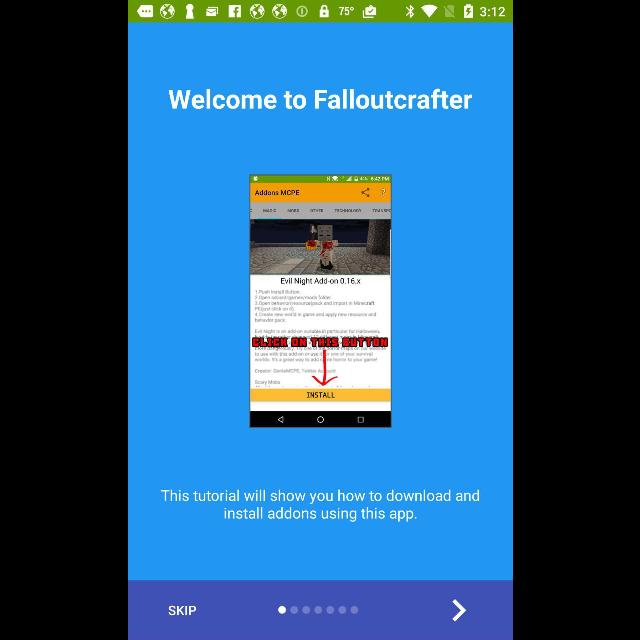icon: (452, 598, 466, 622)
image: (248, 175, 392, 428)
pageindicator: (277, 606, 359, 614)
text: (159, 490, 479, 522), (168, 88, 472, 110), (168, 605, 196, 615)
uppertaskbar: (128, 1, 512, 23)
